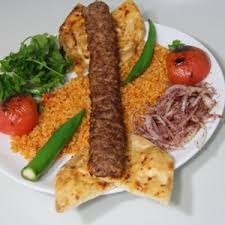kebap: (86, 1, 126, 177)
